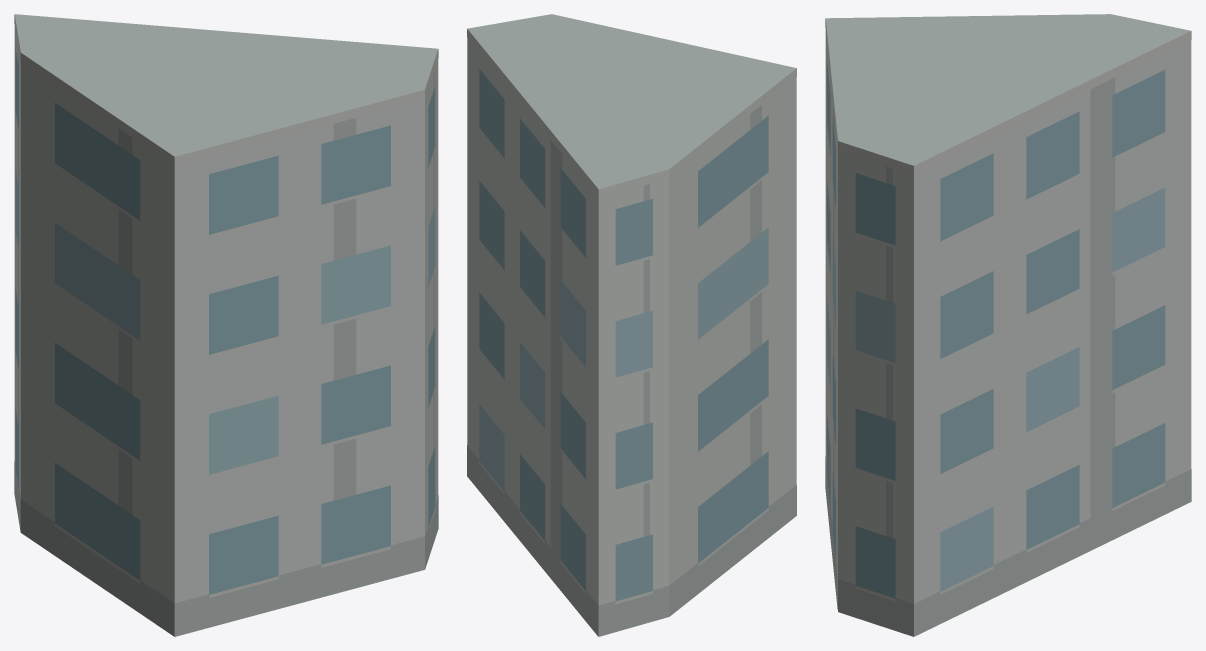
Rendered from residential-edec9aa6-088a-4324-a908-4aae38fe11c5.glb.
3 renders of one model, left to right at view 1: azimuth 30°, elevation 25°; view 2: azimuth 150°, elevation 25°; view 3: azimuth 270°, elevation 25°, orthographic. The views are drawn at different scales.
Parts seen in each view (by area): view 1: residential-edec9aa6-088a-4324-a908-4aae38fe11c5.tmp; view 2: residential-edec9aa6-088a-4324-a908-4aae38fe11c5.tmp; view 3: residential-edec9aa6-088a-4324-a908-4aae38fe11c5.tmp.
Part boxes in pixels (bbox=[...]): residential-edec9aa6-088a-4324-a908-4aae38fe11c5.tmp: bbox=[14, 14, 438, 636]; residential-edec9aa6-088a-4324-a908-4aae38fe11c5.tmp: bbox=[467, 14, 796, 636]; residential-edec9aa6-088a-4324-a908-4aae38fe11c5.tmp: bbox=[825, 14, 1191, 636].
Size of the model in its own units: 8.44 by 12.2 by 8.59.
